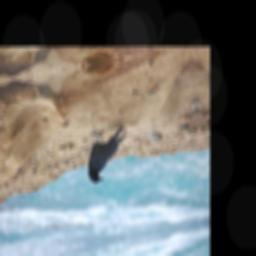Crow: (83, 123, 133, 187)
